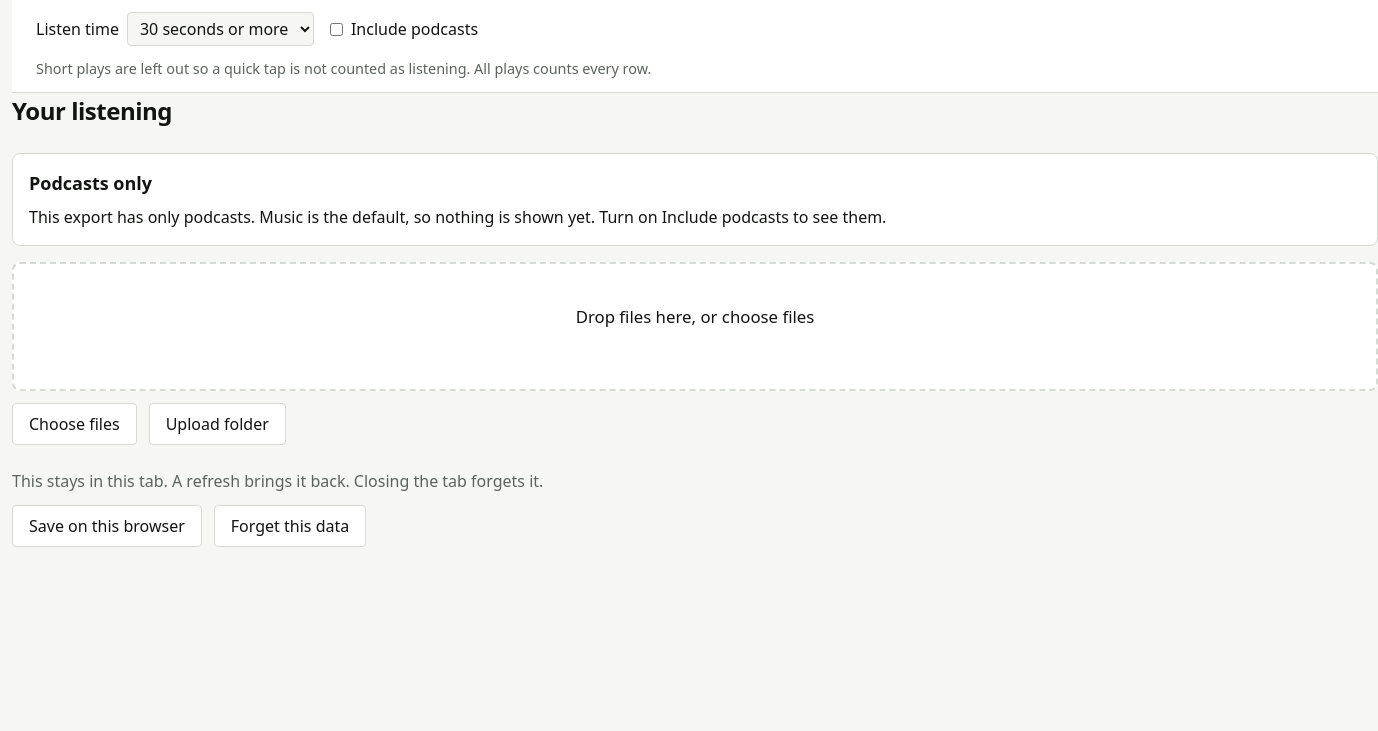
Scenario: MainPage › stays empty for a podcast-only export until podcasts are included
The image size is (1378, 731).
Expected: the heading "Podcasts only" is shown, [29,171,152,195]
Expected: the heading "Summary" is not shown
Click the checkbox labelled "Include podcasts": (336, 29) [330,22,343,36]
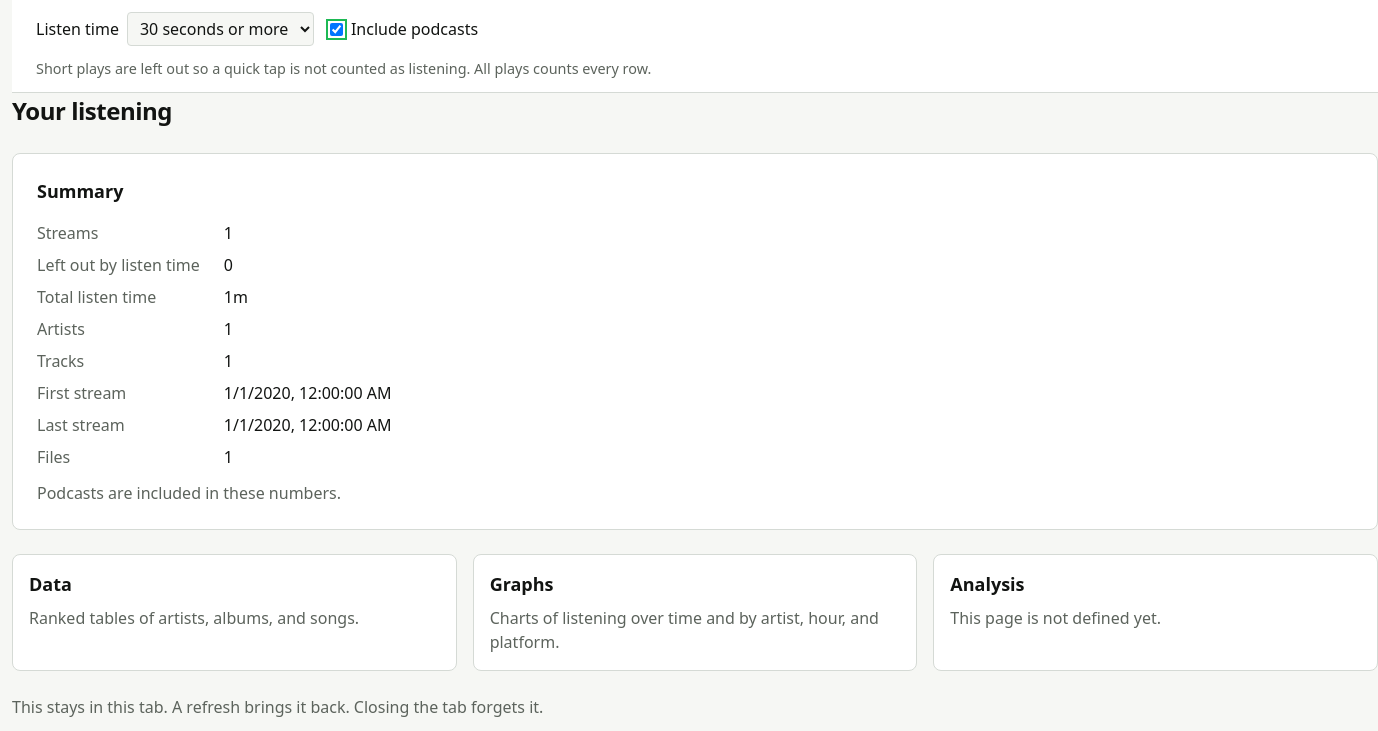
Expected: the heading "Summary" is shown, [37,179,123,203]
Expected: the text "Podcasts are included in these numbers." is shown, [37,482,341,504]
